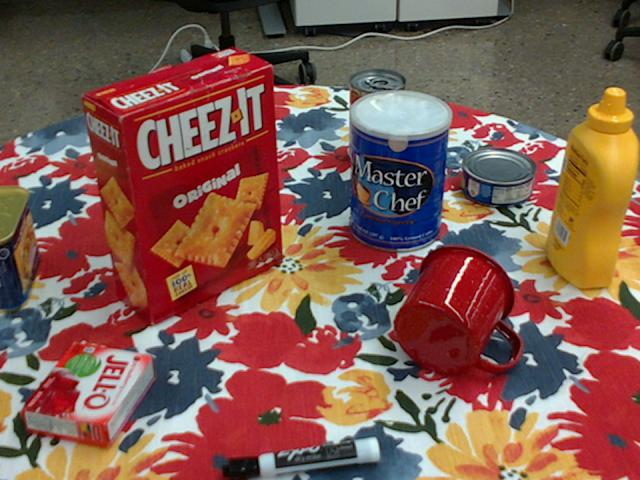cracker_box: (79, 47, 278, 322)
gelatin_box: (25, 342, 155, 447)
large_marker: (222, 437, 381, 479)
master_chef_can: (350, 90, 451, 253)
mug: (395, 244, 521, 374)
mustard_bottle: (544, 89, 636, 289)
potted_meat_can: (0, 184, 37, 310)
sugar_box: (101, 101, 265, 195)
tomato_soup_can: (348, 69, 405, 168)
tuna_fish_can: (461, 150, 537, 208)
